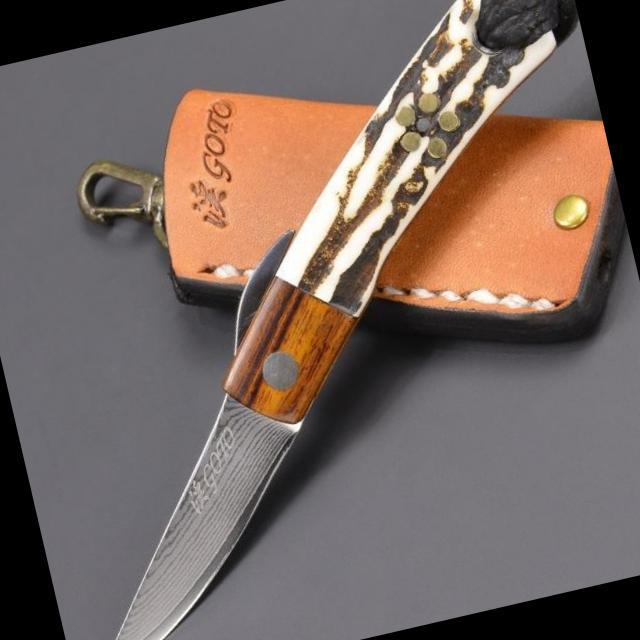Knife: (21, 330, 360, 640)
